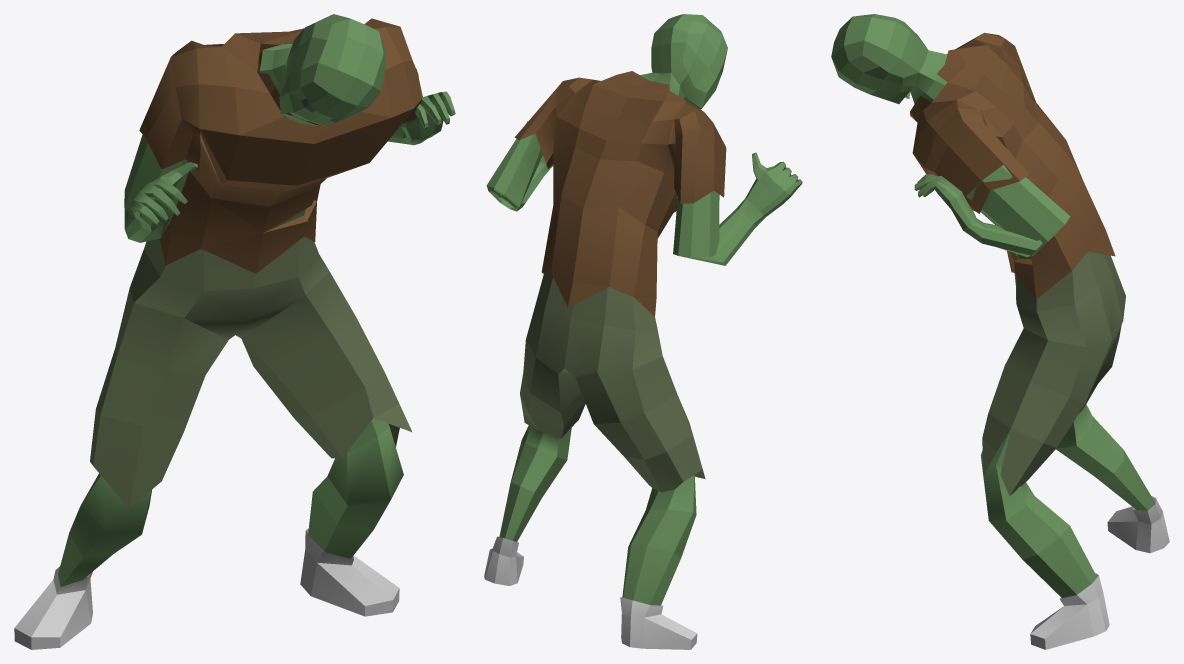
File: ZombieAttack(63).obj
3 renders of one model, left to right at view 1: azimuth 30°, elevation 25°; view 2: azimuth 150°, elevation 25°; view 3: azimuth 270°, elevation 25°, orthographic. The views are drawn at different scales.
Parts seen in each view (by area): view 1: Object001; view 2: Object001; view 3: Object001.
Part boxes in pixels (left/top/right/bottom): Object001: left=14, top=14, right=455, bottom=649; Object001: left=484, top=14, right=802, bottom=649; Object001: left=831, top=14, right=1169, bottom=649.
Size of the model in its own units: 25.85 by 50.23 by 26.95.
